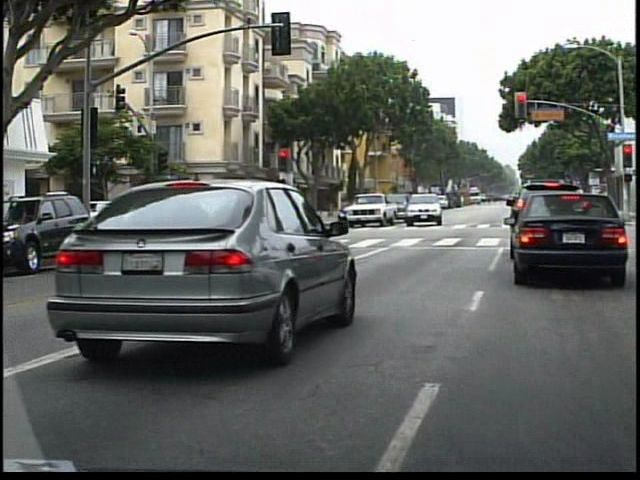person: (171, 191, 189, 237), (191, 193, 209, 234)
